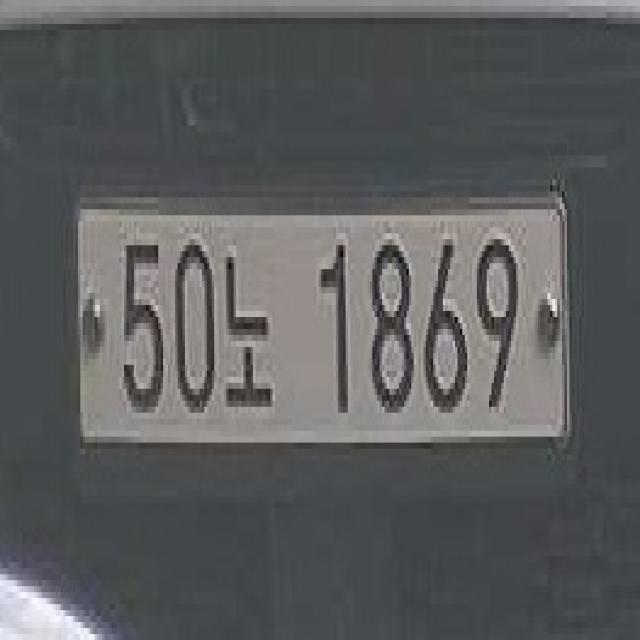0: (171, 231, 218, 432)
1: (312, 226, 356, 429)
5: (116, 227, 171, 424)
6: (424, 220, 466, 427)
8: (368, 224, 417, 432)
9: (474, 229, 528, 418)
license_plate: (63, 182, 579, 458)
no: (222, 240, 284, 434)
